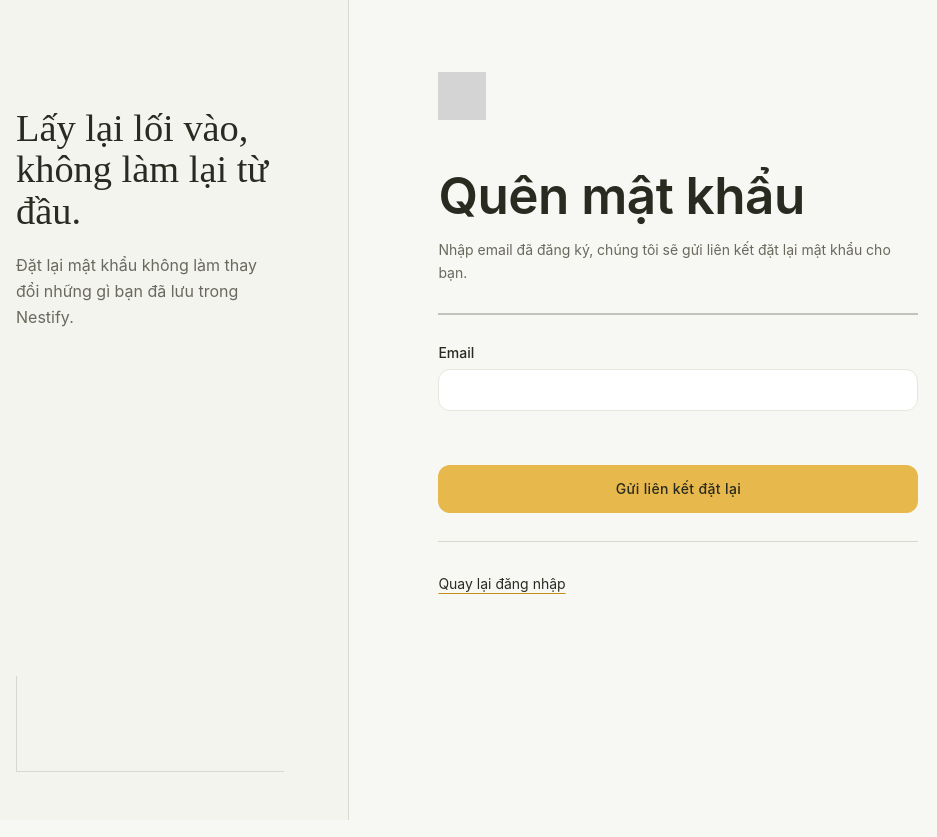
Test: ForgotPasswordPage › shows an error message when the request fails
The image size is (937, 837).
Type "unknown@example.com" into the field labelled "Email" at (678, 390), box [438, 369, 918, 411]
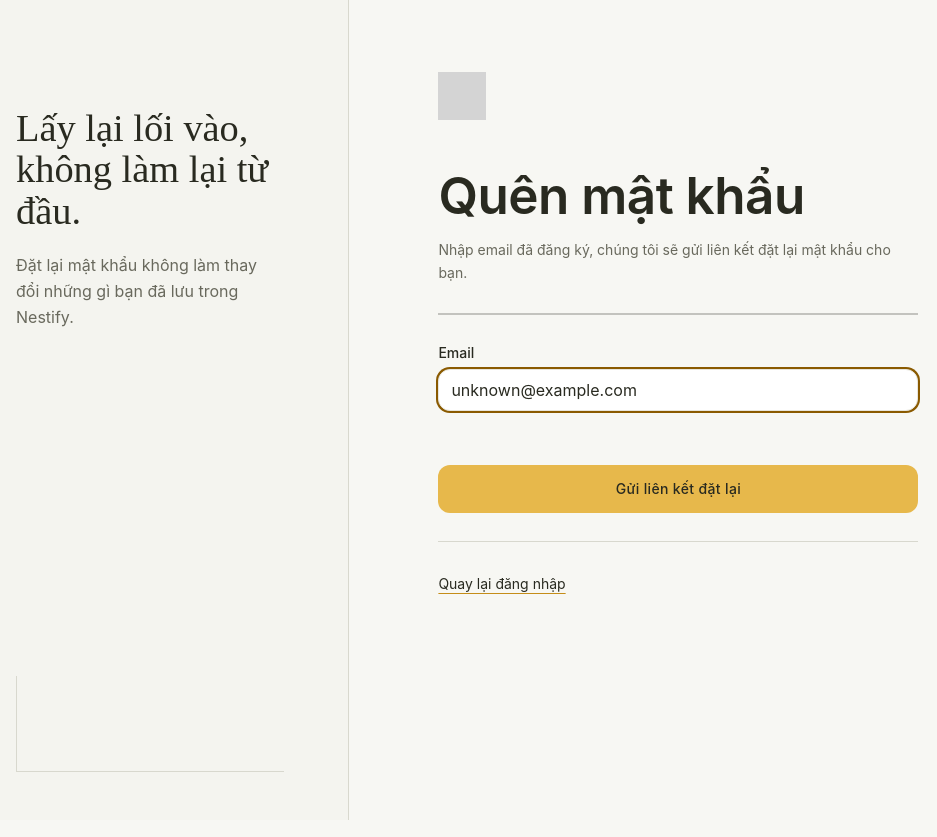
Click the button "Gửi liên kết đặt lại" at (678, 489), box [438, 465, 918, 513]
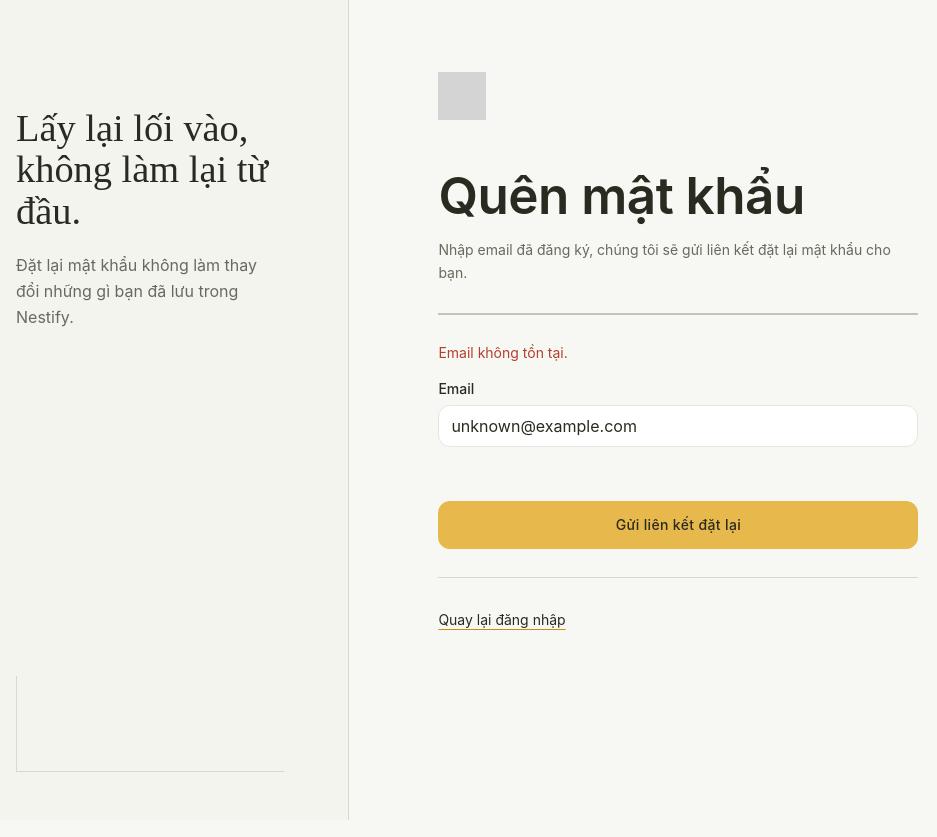
Check: the text "Email không tồn tại." is shown, box [438, 344, 568, 361]
